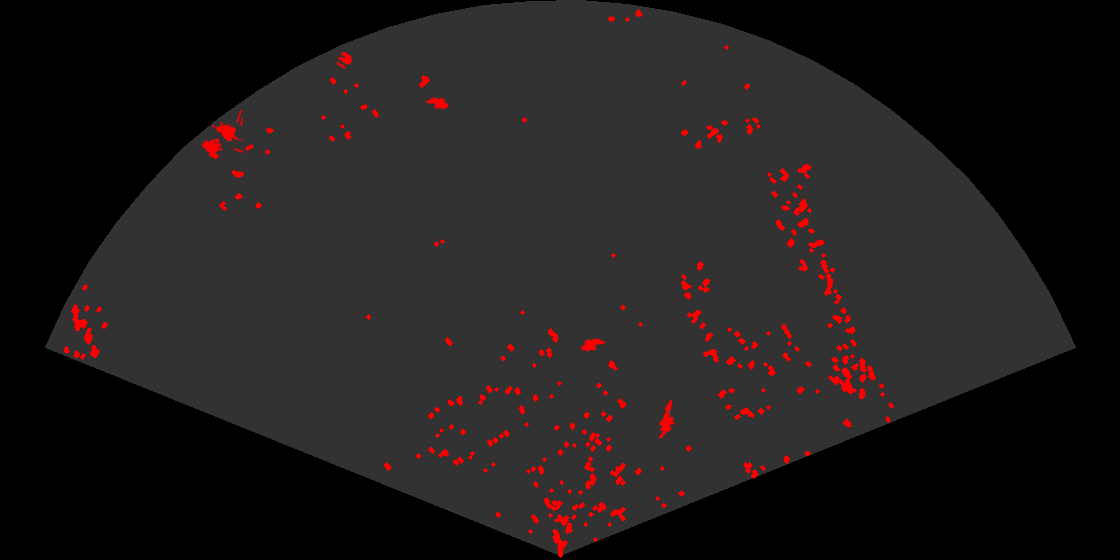AUV: (579, 337, 607, 354), (424, 96, 450, 111)
ball: (335, 50, 354, 70)
cage: (200, 110, 243, 161)
frogman: (657, 397, 677, 438)
